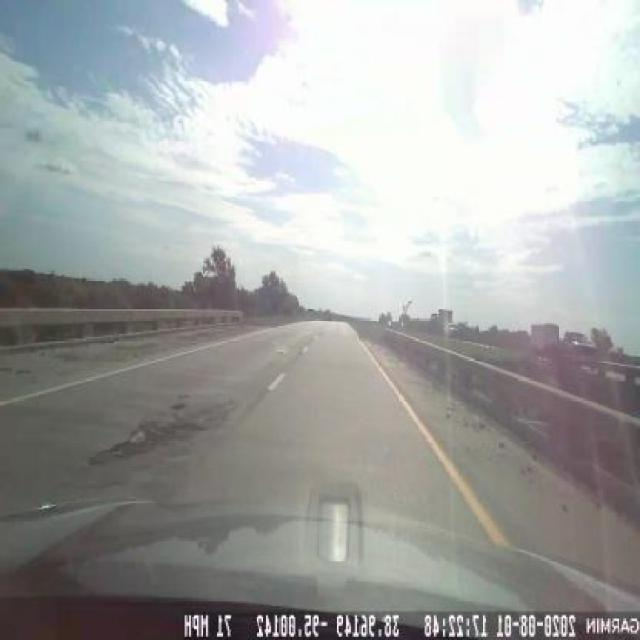pothole: (79, 407, 222, 470)
